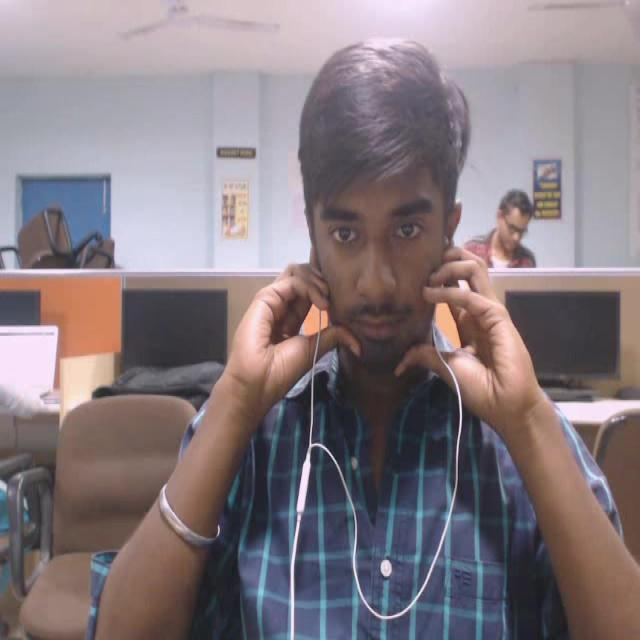Engaged: (286, 31, 476, 388)
